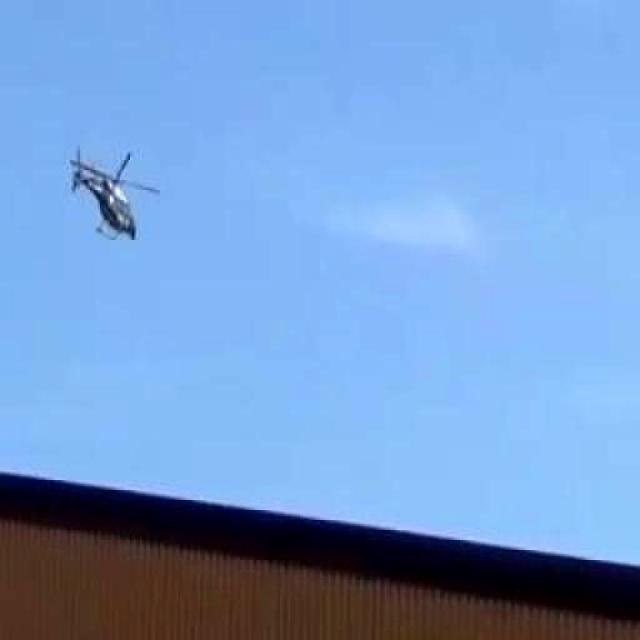drone: (51, 124, 181, 278)
